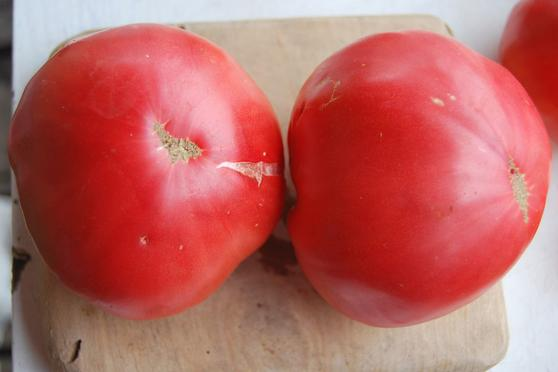tomato: (3, 28, 286, 321), (286, 30, 548, 331)
